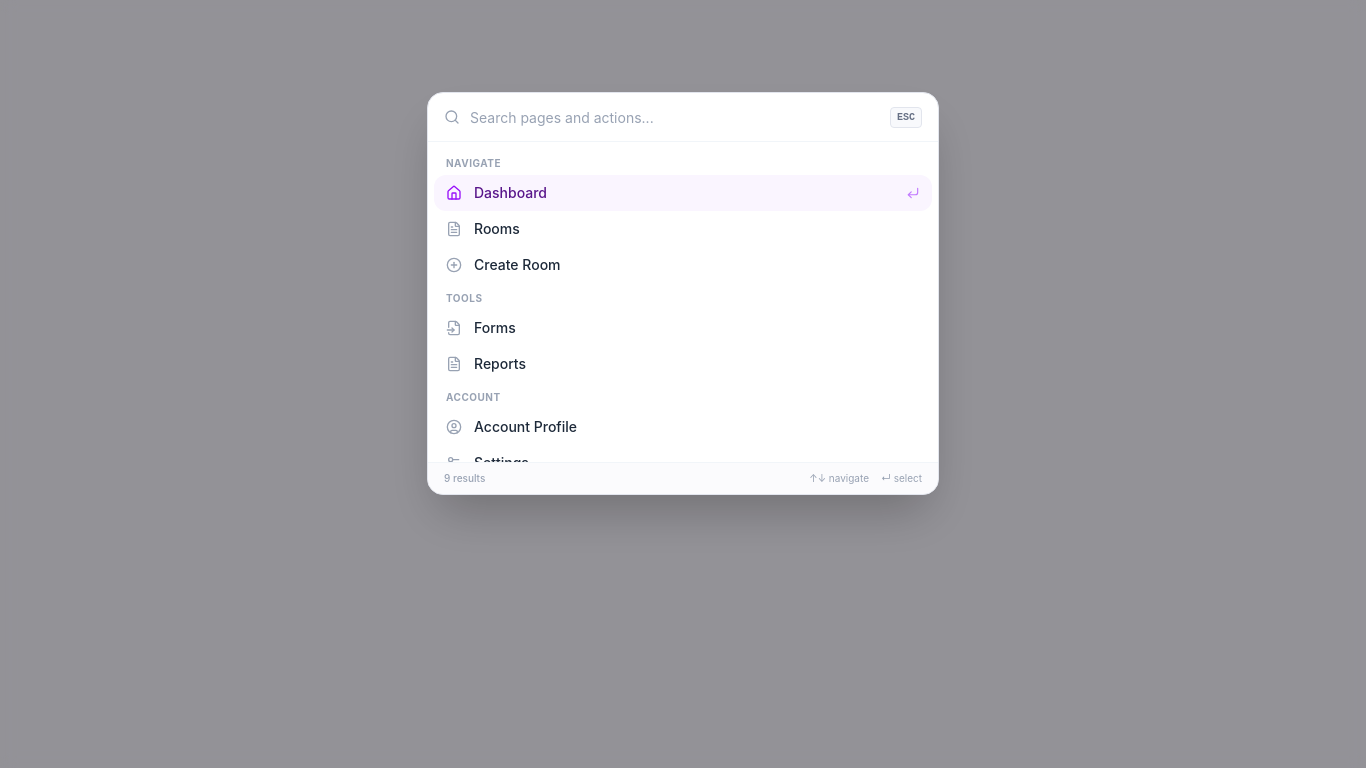
Test case: CommandPalette › permission filtering › does not surface a hidden destination through search either
In the field: (675, 117) top-left (470, 93), bottom-right (880, 141), type "audit"
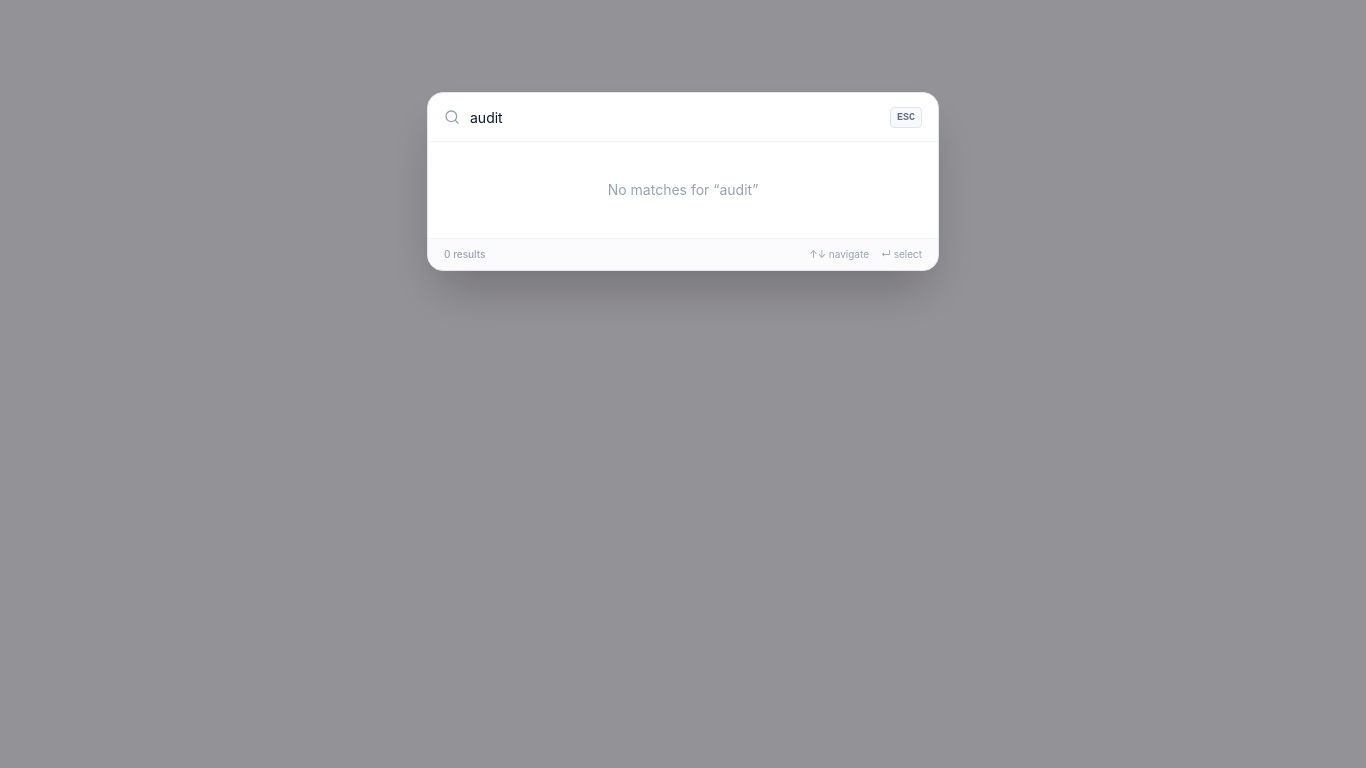
Expected: the text "No matches for “audit”" is shown, top-left (608, 181), bottom-right (758, 198)
